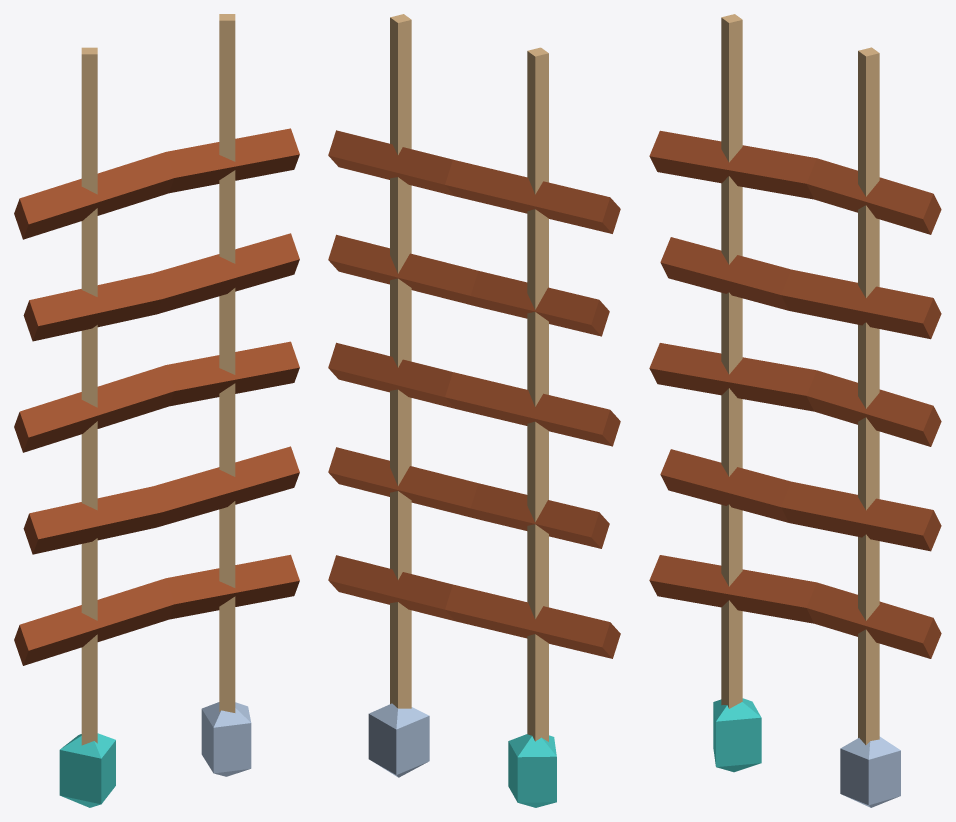
The model's file is Prop_Triabal_Hanging_Charm_Ladder_01.FBX.
3 views of the same model, side by side, from view 1: azimuth 30°, elevation 25°; view 2: azimuth 150°, elevation 25°; view 3: azimuth 330°, elevation 25° (orthographic).
Visible parts, largest first — view 1: Prop_Triabal_Hanging_Charm_Ladder_01; view 2: Prop_Triabal_Hanging_Charm_Ladder_01; view 3: Prop_Triabal_Hanging_Charm_Ladder_01.
Boxes of the visible parts, x1=… form: Prop_Triabal_Hanging_Charm_Ladder_01: x1=14, y1=14, x2=299, y2=807; Prop_Triabal_Hanging_Charm_Ladder_01: x1=328, y1=14, x2=620, y2=807; Prop_Triabal_Hanging_Charm_Ladder_01: x1=649, y1=14, x2=941, y2=807.
Size of the model in its own units: 924 by 2442 by 174.
